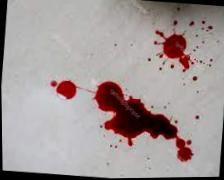Fire: (50, 80, 193, 163), (153, 18, 215, 73), (175, 3, 187, 12), (197, 88, 204, 94), (193, 77, 198, 82), (195, 115, 200, 120), (189, 21, 194, 26)
